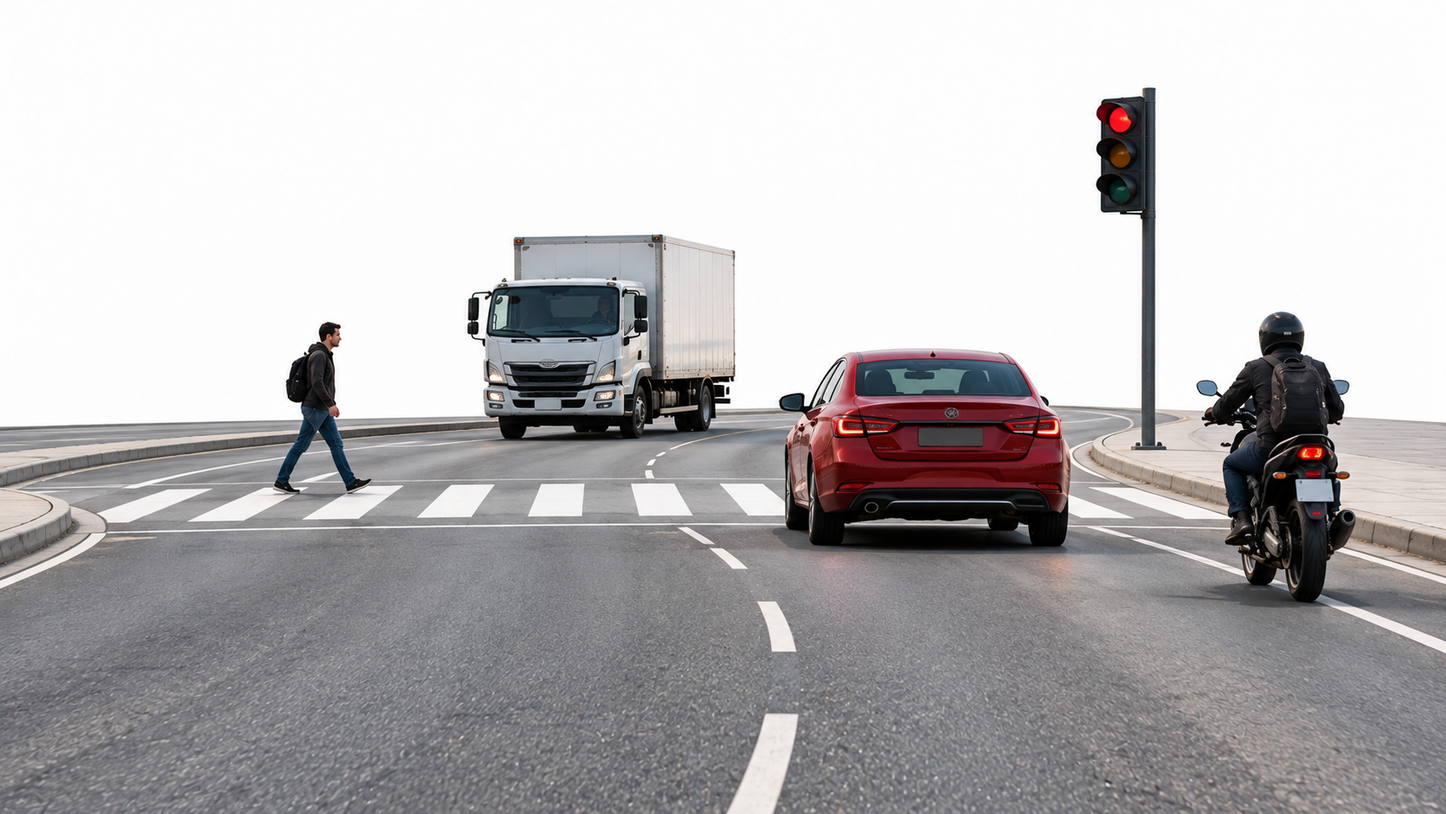car: (777, 347, 1071, 549)
motorcycle: (1196, 375, 1372, 603)
person: (1194, 311, 1346, 542), (272, 322, 374, 495), (594, 298, 622, 336)
traffic_light: (1096, 87, 1144, 216)
truck: (466, 234, 736, 440)
zebra_crossing: (0, 481, 803, 527)
